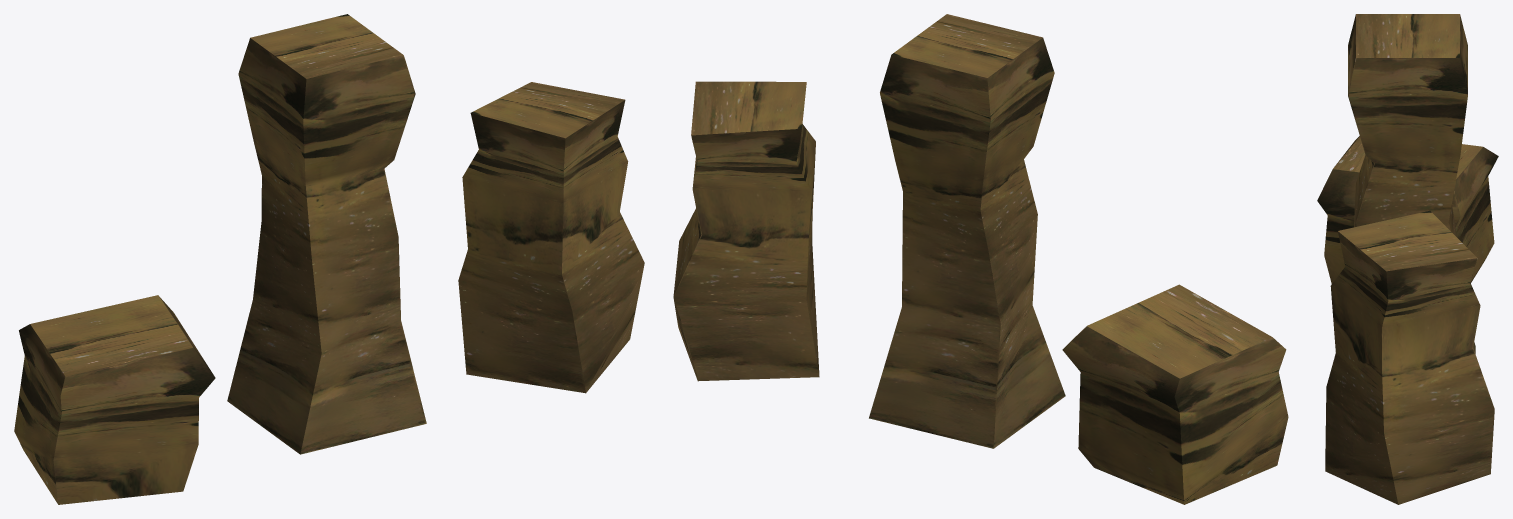
The model's file is plataformas2.fbx.
3 renders of one model, left to right at view 1: azimuth 30°, elevation 25°; view 2: azimuth 150°, elevation 25°; view 3: azimuth 270°, elevation 25°, orthographic. The views are drawn at different scales.
Visible parts, largest first — view 1: pCube1, pCube3, pCube2; view 2: pCube1, pCube3, pCube2; view 3: pCube3, pCube1, pCube2.
Boxes of the visible parts, bbox=[...] form: pCube1: bbox=[227, 14, 426, 454]; pCube3: bbox=[458, 82, 644, 393]; pCube2: bbox=[14, 295, 215, 504]; pCube1: bbox=[869, 14, 1065, 448]; pCube3: bbox=[673, 81, 819, 381]; pCube2: bbox=[1062, 284, 1288, 504]; pCube3: bbox=[1325, 210, 1494, 504]; pCube1: bbox=[1348, 14, 1475, 353]; pCube2: bbox=[1317, 136, 1498, 283].
Size of the model in its own units: 54.36 by 31.94 by 15.31.
1 material, 1 textured.
